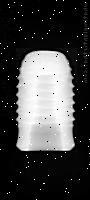Cowellmedi: (16, 48, 77, 152)
